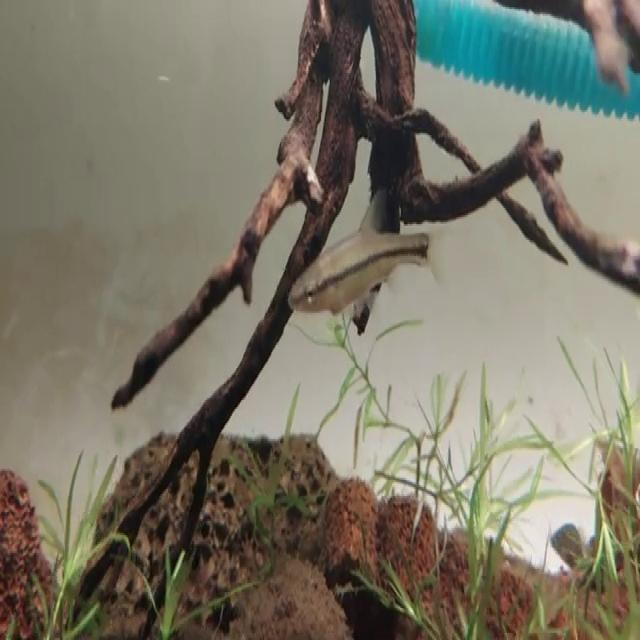Cakil Baligi: (285, 191, 446, 328)
